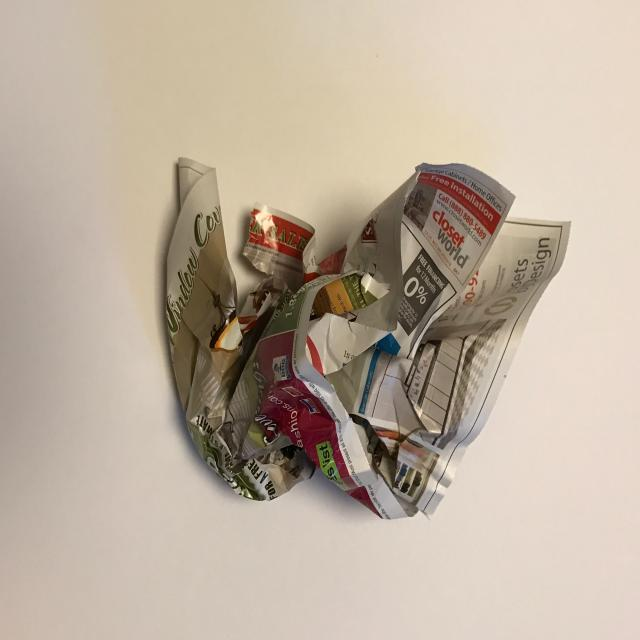paper: (148, 155, 573, 528)
